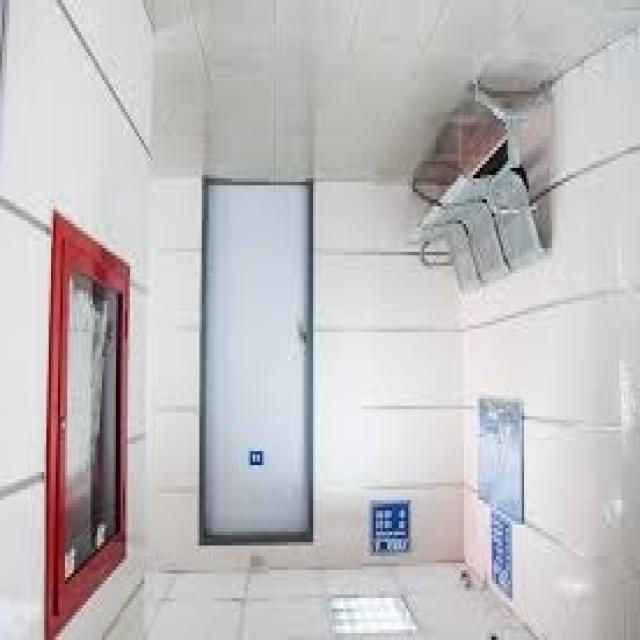door: (202, 180, 313, 544)
